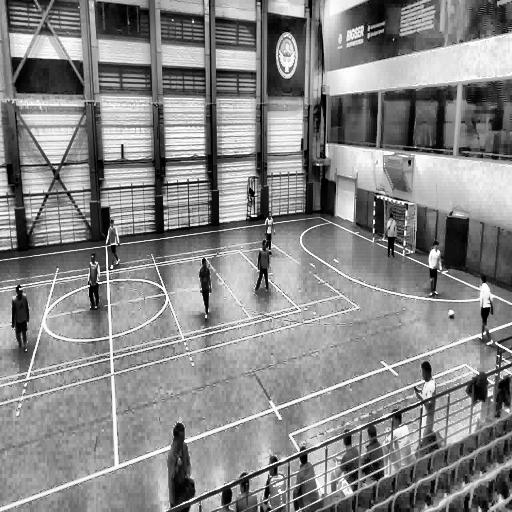ball: (448, 307, 456, 321)
player: (169, 422, 195, 510), (11, 285, 30, 353), (478, 274, 493, 341), (198, 256, 212, 321), (255, 239, 270, 293), (428, 240, 442, 297), (87, 252, 100, 311), (106, 220, 119, 271), (263, 208, 276, 258), (385, 212, 397, 260)
